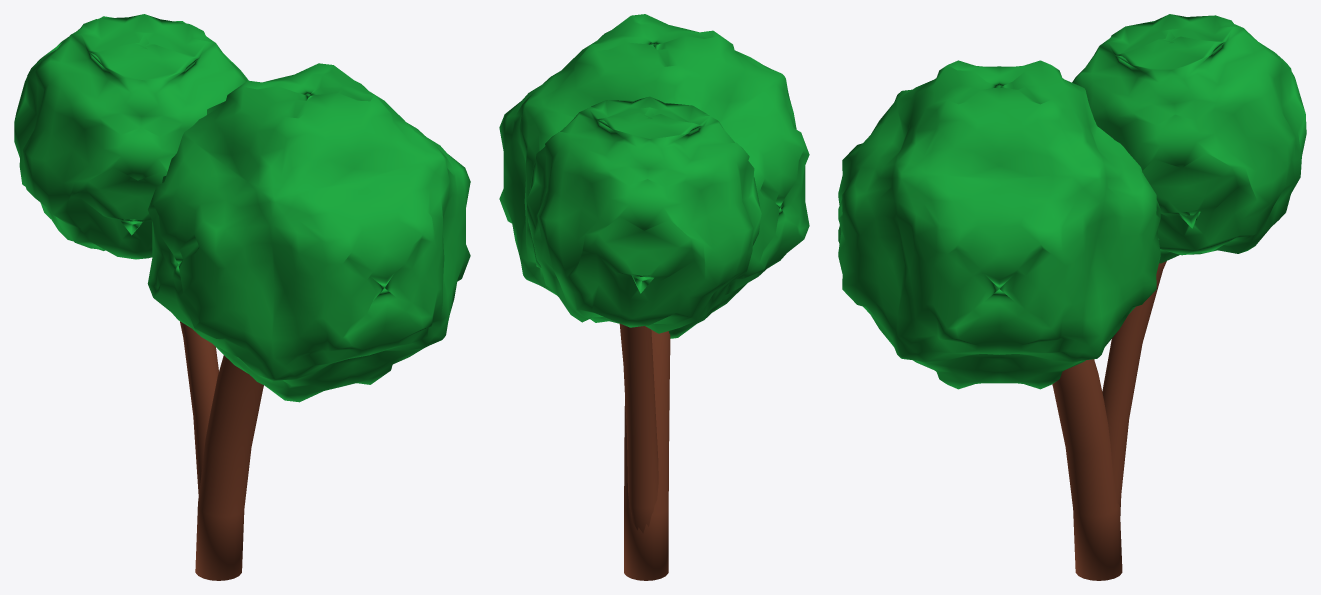
The model's file is baum1_II.dae.
3 views of the same model, side by side, from view 1: azimuth 30°, elevation 25°; view 2: azimuth 150°, elevation 25°; view 3: azimuth 270°, elevation 25° (orthographic). The views are drawn at different scales.
Visible parts, largest first — view 1: Geosph_re001, Geosph_re002, Zylinder001, Zylinder002; view 2: Geosph_re002, Geosph_re001, Zylinder002, Zylinder001; view 3: Geosph_re001, Geosph_re002, Zylinder001, Zylinder002.
Boxes of the visible parts, x1,y1,x2,y2 form: Geosph_re001: (147, 63, 470, 402); Geosph_re002: (14, 14, 248, 259); Zylinder001: (195, 355, 263, 580); Zylinder002: (180, 321, 218, 495); Geosph_re002: (526, 96, 761, 333); Geosph_re001: (499, 14, 809, 338); Zylinder002: (619, 323, 658, 533); Zylinder001: (624, 330, 670, 580); Geosph_re001: (838, 60, 1160, 389); Geosph_re002: (1072, 14, 1306, 263); Zylinder001: (1052, 359, 1122, 580); Zylinder002: (1102, 261, 1166, 515).
Size of the model in its own units: 2.46 by 3.01 by 3.7.
